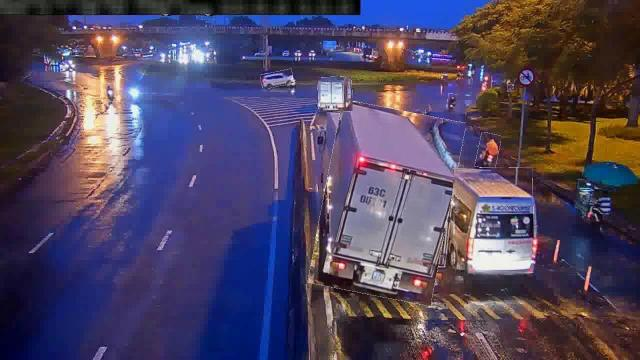Bike: (476, 133, 499, 169), (100, 84, 116, 103), (447, 94, 457, 109)
Bus: (454, 167, 534, 273)
Car: (260, 70, 294, 88)
Truck: (316, 105, 458, 301), (318, 76, 354, 112)
